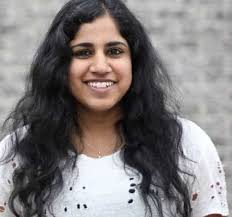without_mask: (62, 7, 137, 112)
